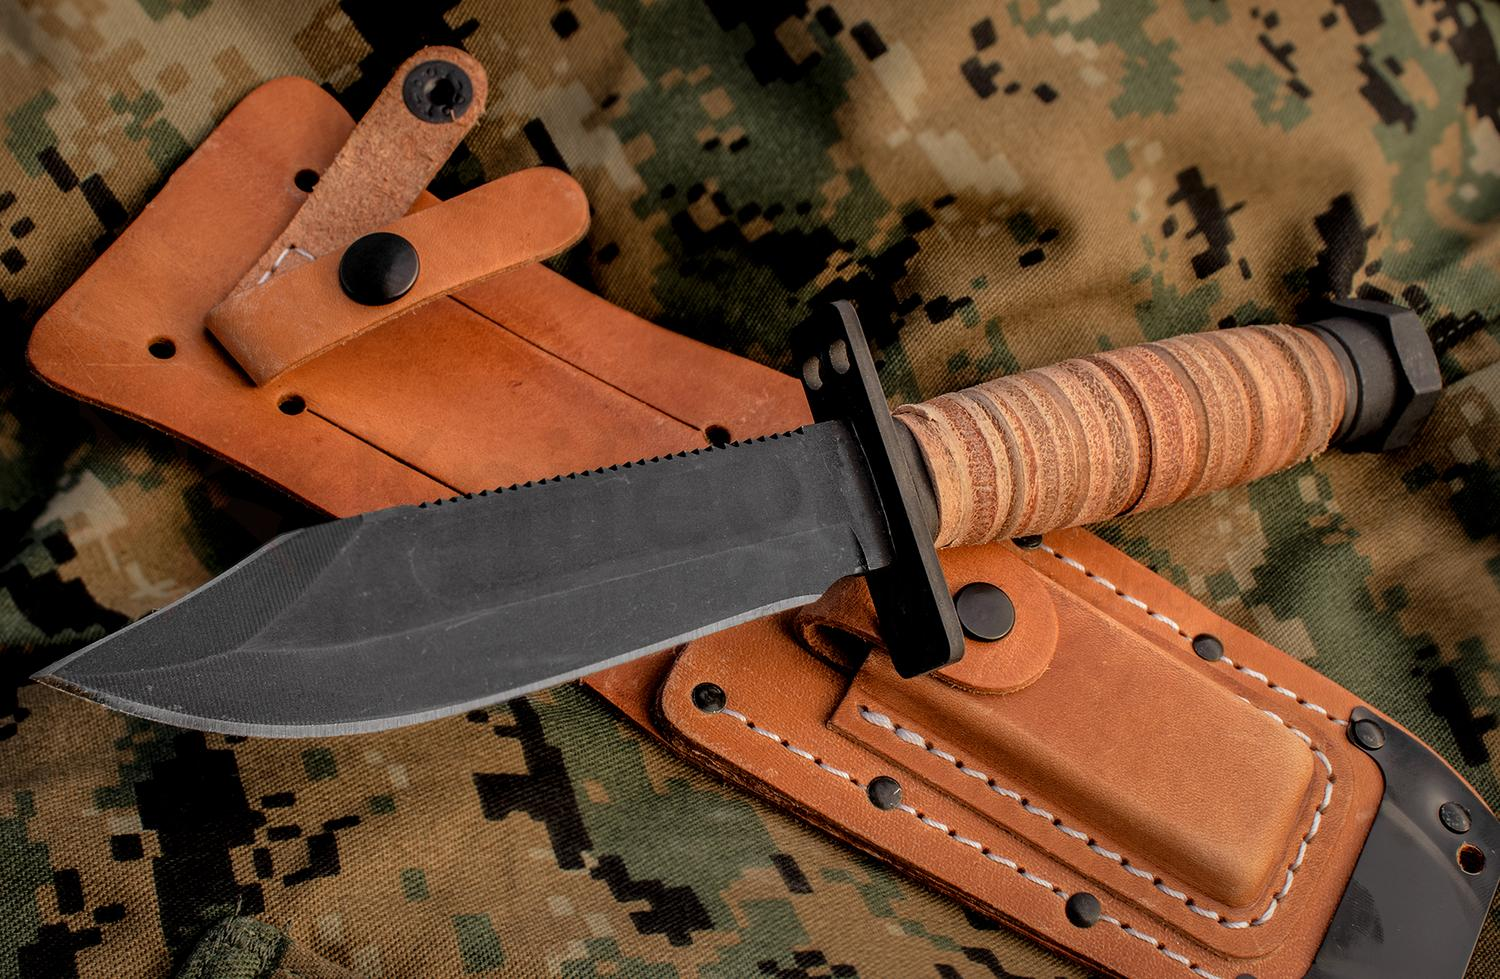knife: (19, 403, 890, 769)
